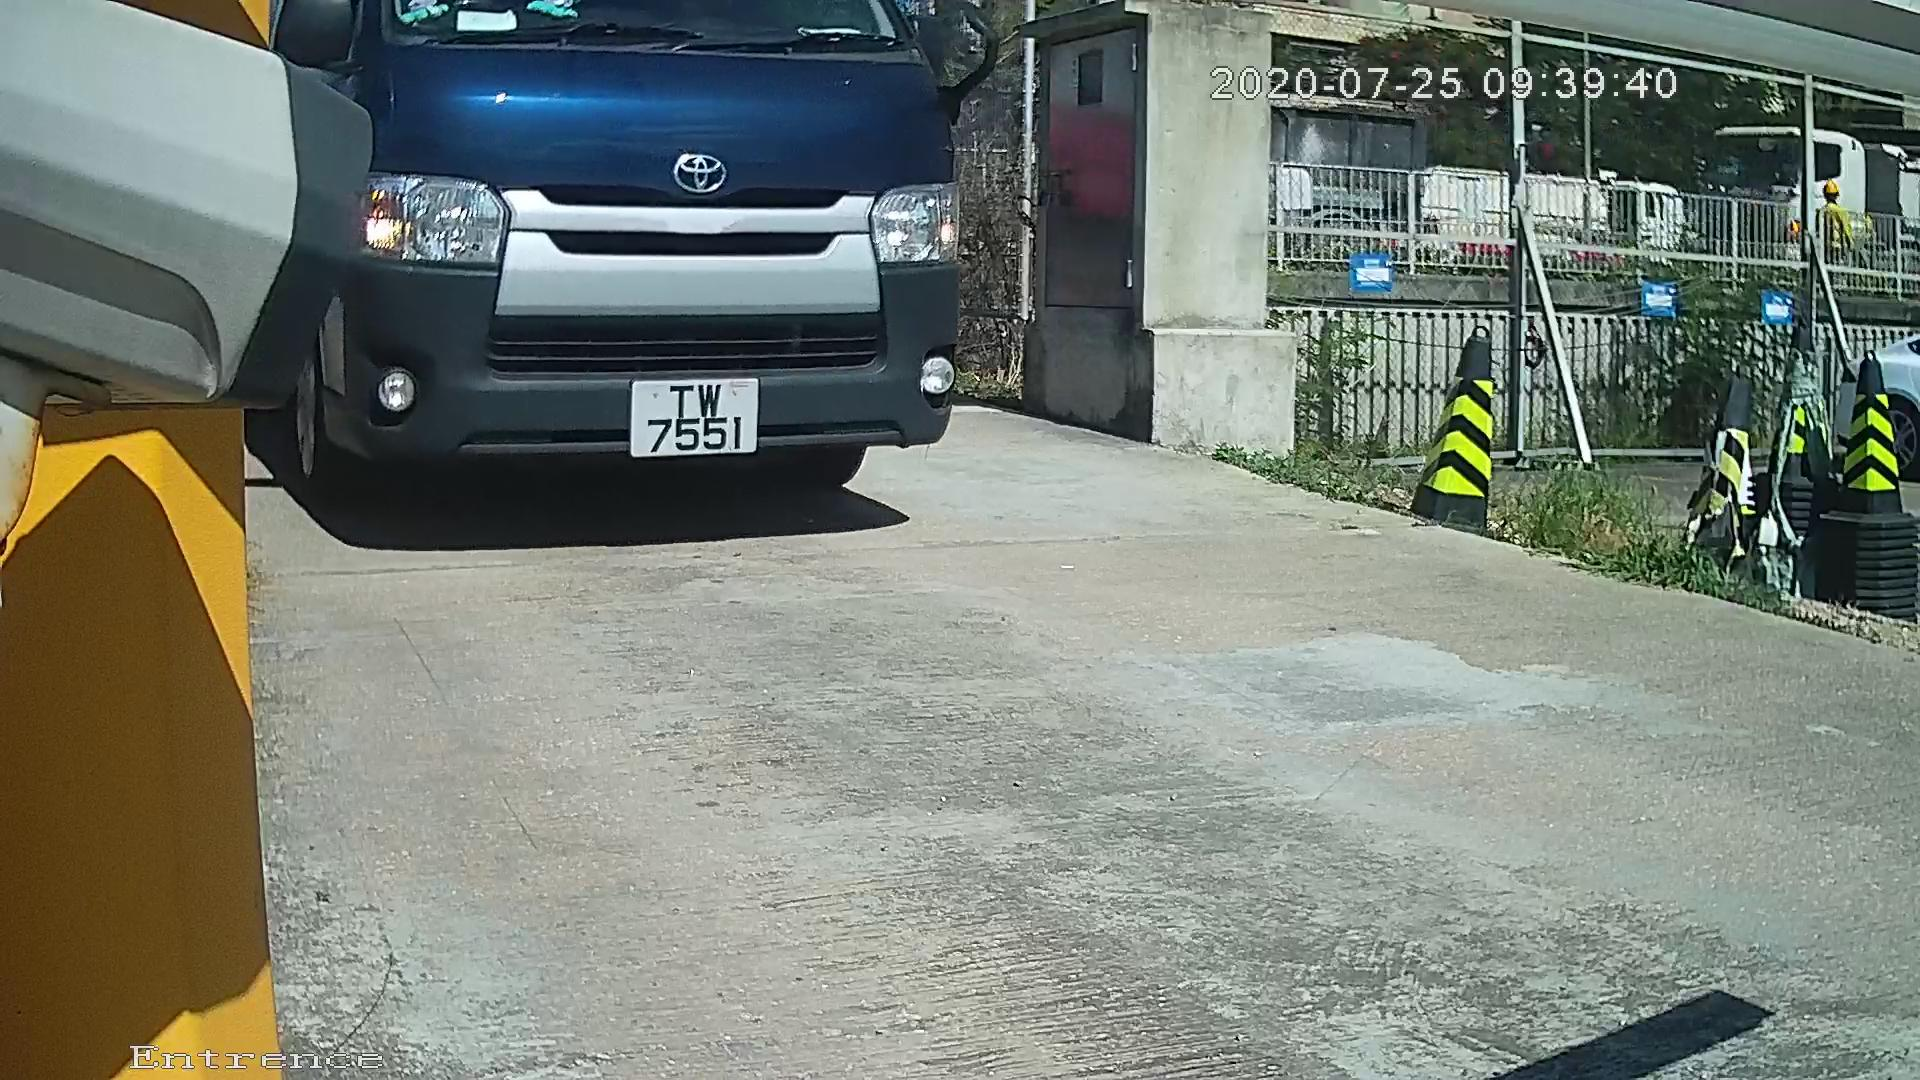License Plate: (609, 367, 780, 473)
